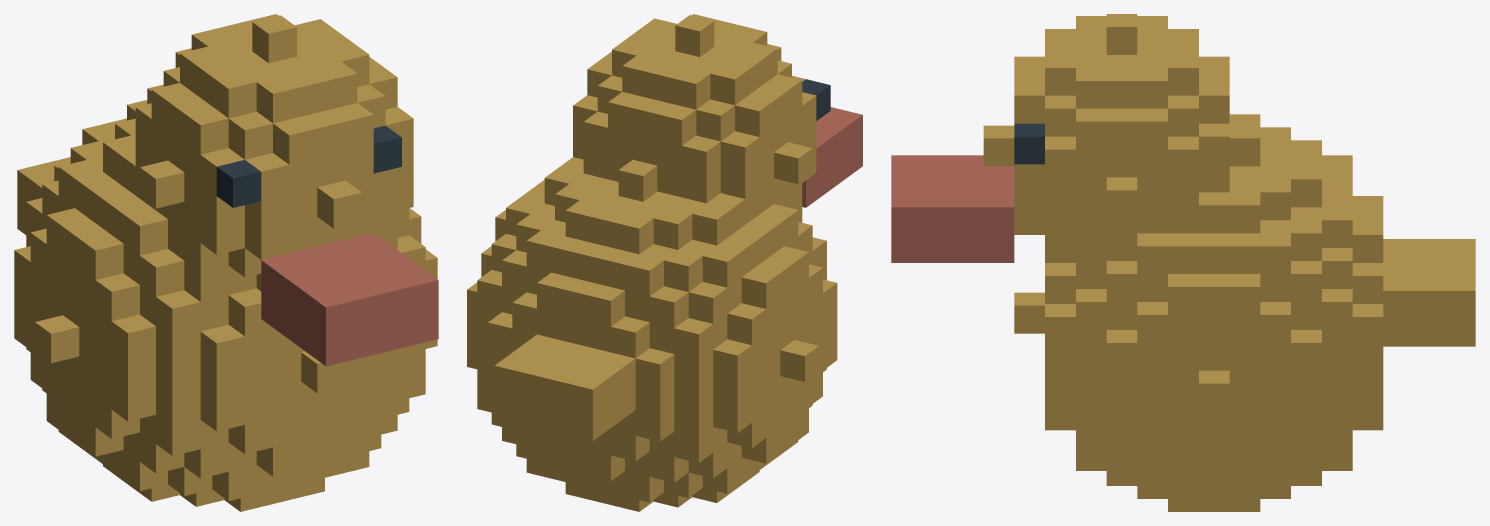
Rendered from software-03.glb.
The picture shows the model from 3 angles, left to right: view 1: azimuth 30°, elevation 25°; view 2: azimuth 150°, elevation 25°; view 3: azimuth 270°, elevation 25°; orthographic projection. The views are drawn at different scales.
Visible parts, largest first — view 1: Debug rubber duck; view 2: Debug rubber duck; view 3: Debug rubber duck.
Part boxes in pixels (x1,y1,x2,y2): Debug rubber duck: (14,14,438,511); Debug rubber duck: (467,14,862,511); Debug rubber duck: (891,14,1475,511).
Bounding box in the file's own units: 1.04 × 1.36 × 1.52.
